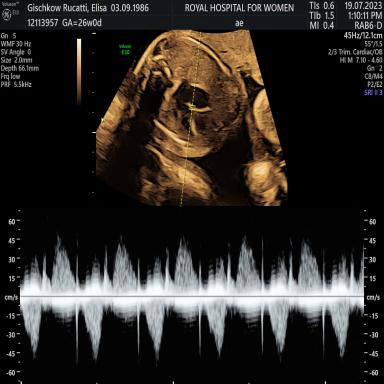Ultrasound-Waves: (23, 214, 363, 384)
